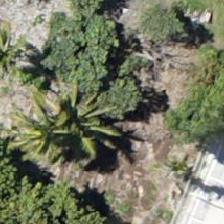coconut_tree: (36, 76, 126, 166), (0, 79, 90, 169), (0, 9, 55, 99)
